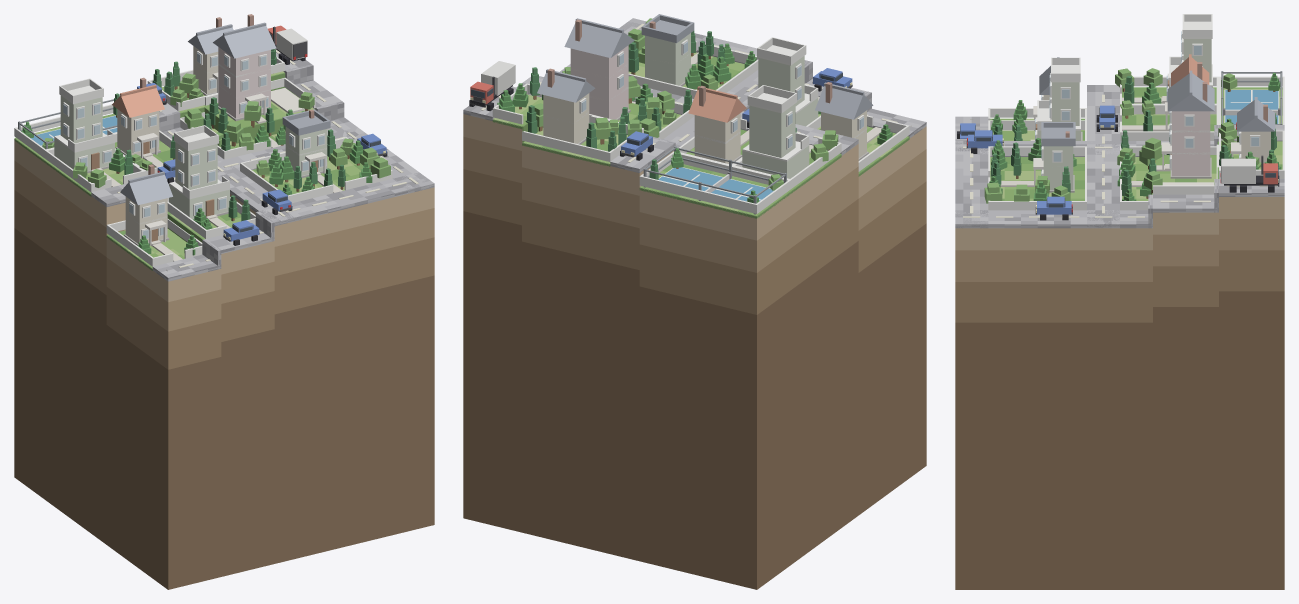
Rendered from block_5_permeable_40.glb.
The picture shows the model from 3 angles, left to right: view 1: azimuth 30°, elevation 25°; view 2: azimuth 150°, elevation 25°; view 3: azimuth 270°, elevation 25°; orthographic projection. The views are drawn at different scales.
Visible parts, largest first — view 1: Patch_UpperLeft_b07_PP, Bungalows_UpperLeft_b07_PP, Roads_UpperLeft_b07_PP, ULCar_019_PP, LawnSkirt_UpperLeft_b07_PP, RoadMarks_UpperLeft_b07_PP, ULCar_004_PP, ULCar_018_PP; view 2: Patch_UpperLeft_b07_PP, Bungalows_UpperLeft_b07_PP, Roads_UpperLeft_b07_PP, ULCar_019_PP, ULCar_017_PP; view 3: Patch_UpperLeft_b07_PP, Bungalows_UpperLeft_b07_PP, Roads_UpperLeft_b07_PP, ULCar_019_PP, RoadMarks_UpperLeft_b07_PP, ULCar_020_PP, ULCar_018_PP, ULCar_008_PP.
Boxes of the visible parts, <box> form: Patch_UpperLeft_b07_PP: <box>14,140,434,589</box>; Bungalows_UpperLeft_b07_PP: <box>14,14,392,270</box>; Roads_UpperLeft_b07_PP: <box>91,52,434,281</box>; ULCar_019_PP: <box>268,25,307,64</box>; LawnSkirt_UpperLeft_b07_PP: <box>16,72,285,267</box>; RoadMarks_UpperLeft_b07_PP: <box>117,49,418,270</box>; ULCar_004_PP: <box>223,220,259,245</box>; ULCar_018_PP: <box>261,189,292,214</box>; Patch_UpperLeft_b07_PP: <box>463,114,926,589</box>; Bungalows_UpperLeft_b07_PP: <box>492,14,909,218</box>; Roads_UpperLeft_b07_PP: <box>463,18,926,172</box>; ULCar_019_PP: <box>469,61,515,111</box>; ULCar_017_PP: <box>620,131,653,160</box>; Patch_UpperLeft_b07_PP: <box>955,197,1284,589</box>; Bungalows_UpperLeft_b07_PP: <box>988,14,1284,210</box>; Roads_UpperLeft_b07_PP: <box>955,85,1284,228</box>; ULCar_019_PP: <box>1220,155,1279,192</box>; RoadMarks_UpperLeft_b07_PP: <box>963,94,1276,217</box>; ULCar_020_PP: <box>1035,196,1072,220</box>; ULCar_018_PP: <box>966,130,1003,153</box>; ULCar_008_PP: <box>1096,105,1117,131</box>.
Size of the model in its own units: 9.61 by 15.01 by 9.5.
